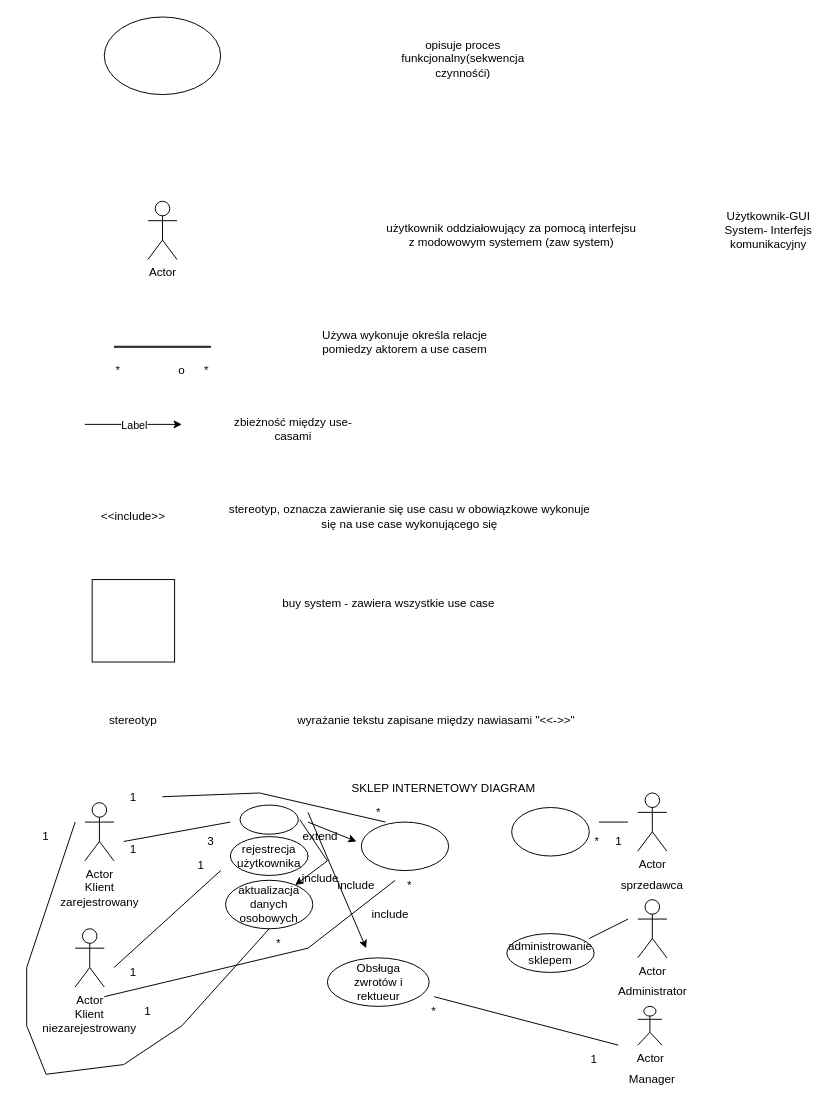
The diagram is 838 pixels wide and 1111 high, and some of its shapes have lost their labels. The shapes that lost their labels are listed below. From the top down, each one's box as (x1, y1, x2, y2) in pixels, then its label:
(103, 16, 221, 95): Naiwa use-case
(91, 579, 175, 662): Use case system
(239, 804, 298, 834): logowanie
(511, 807, 589, 856): obsługa zamówienia
(360, 821, 449, 871): skłądanie zamówienia
